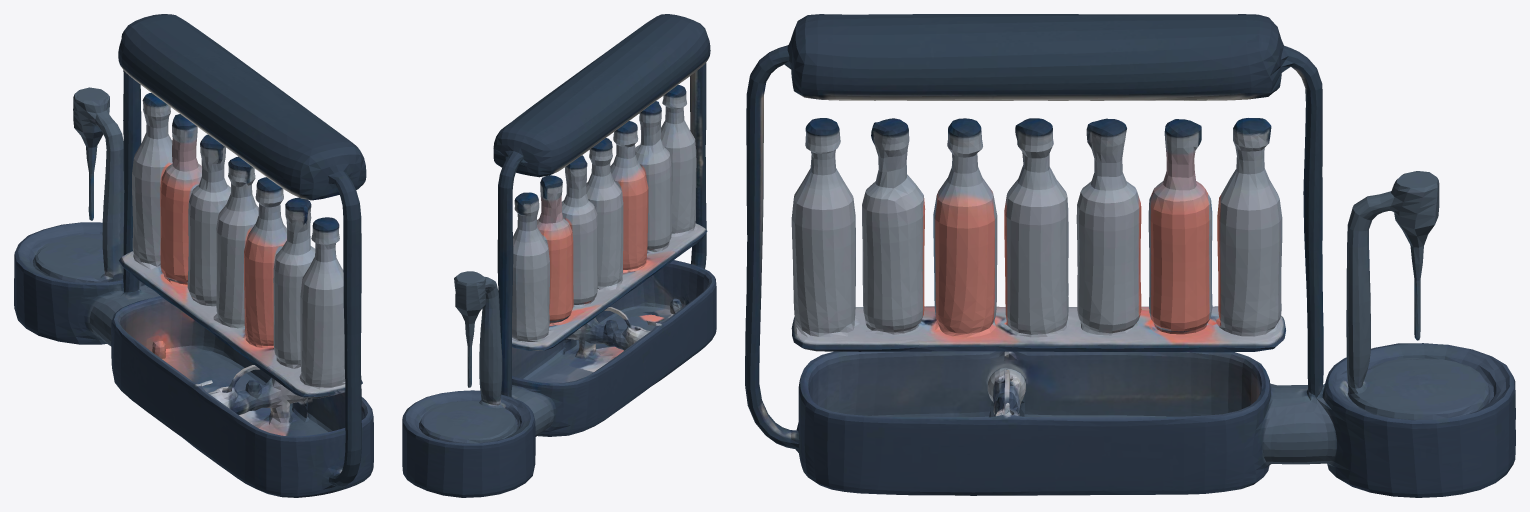
3 views of the same model, side by side, from view 1: azimuth 30°, elevation 25°; view 2: azimuth 150°, elevation 25°; view 3: azimuth 270°, elevation 25° (orthographic). The views are drawn at different scales.
Parts seen in each view (by area): view 1: tripo_node_86a2a142-be37-4542-8c4f-b14a5688b8c4; view 2: tripo_node_86a2a142-be37-4542-8c4f-b14a5688b8c4; view 3: tripo_node_86a2a142-be37-4542-8c4f-b14a5688b8c4.
Part boxes in pixels (x1=…): tripo_node_86a2a142-be37-4542-8c4f-b14a5688b8c4: x1=14, y1=14, x2=373, y2=497; tripo_node_86a2a142-be37-4542-8c4f-b14a5688b8c4: x1=402, y1=14, x2=716, y2=497; tripo_node_86a2a142-be37-4542-8c4f-b14a5688b8c4: x1=745, y1=14, x2=1515, y2=497.
Bounding box in the file's own units: 0.2495 × 0.6416 × 0.9989.
Materials: 1 (1 with a texture image).
